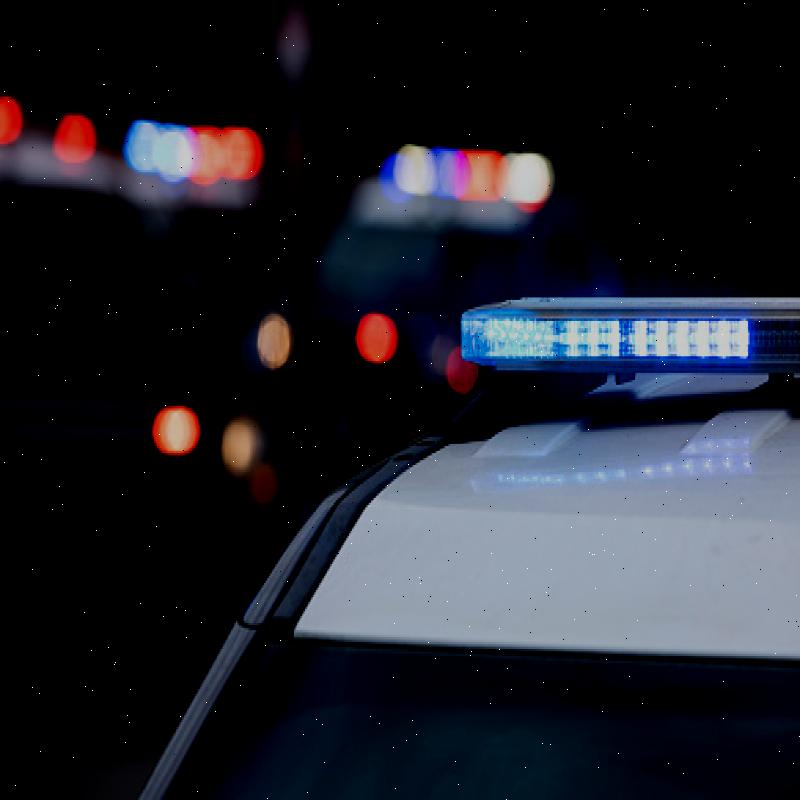AmbulanceSiren: (441, 234, 800, 452)
